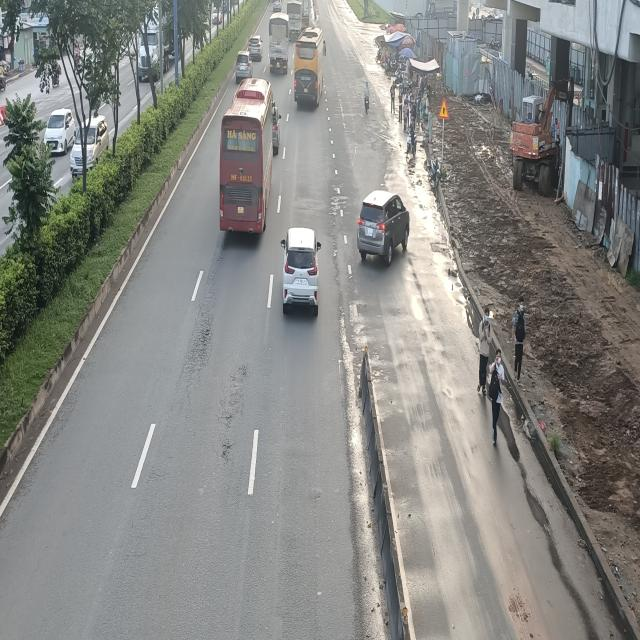car: (356, 192, 409, 262), (281, 228, 322, 318), (247, 34, 262, 61)
coach: (220, 78, 273, 239), (294, 28, 325, 106)
truck: (269, 15, 290, 72)
